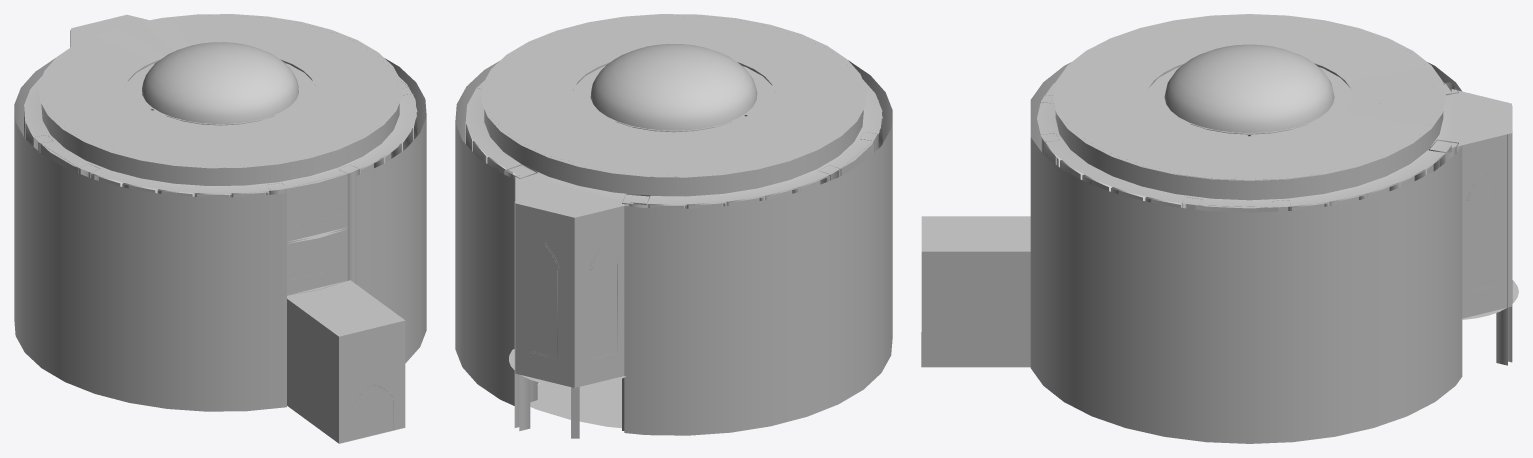
Rendered from Library.fbx.
The picture shows the model from 3 angles, left to right: view 1: azimuth 30°, elevation 25°; view 2: azimuth 150°, elevation 25°; view 3: azimuth 270°, elevation 25°; orthographic projection. The views are drawn at different scales.
Parts seen in each view (by area): view 1: _gltfNode_2, _gltfNode_4, _gltfNode_16, _gltfNode_31; view 2: _gltfNode_2, _gltfNode_4, _gltfNode_31, _gltfNode_0; view 3: _gltfNode_2, _gltfNode_4, _gltfNode_16, _gltfNode_31.
Boxes of the visible parts, x1,y1,x2,y2 form: _gltfNode_2: (14, 30, 426, 411); _gltfNode_4: (24, 14, 416, 193); _gltfNode_16: (287, 280, 405, 443); _gltfNode_31: (142, 42, 298, 123); _gltfNode_2: (455, 60, 892, 438); _gltfNode_4: (465, 14, 882, 217); _gltfNode_31: (590, 44, 757, 130); _gltfNode_0: (530, 378, 621, 428); _gltfNode_2: (1030, 62, 1512, 443); _gltfNode_4: (1037, 14, 1511, 208); _gltfNode_16: (921, 216, 1030, 367); _gltfNode_31: (1164, 44, 1334, 132).
Size of the model in its own units: 2100 by 1516 by 2812.
